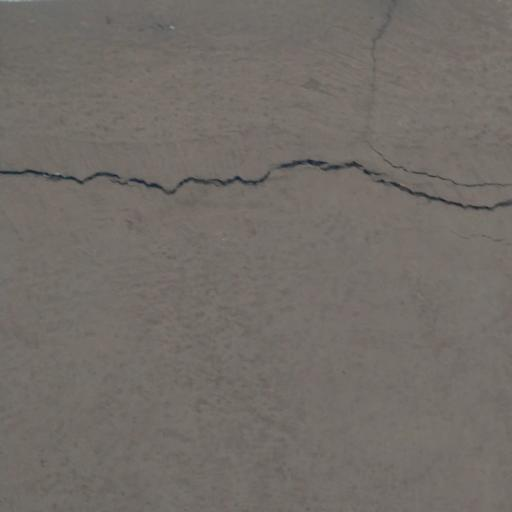major_crack: (0, 124, 512, 238)
